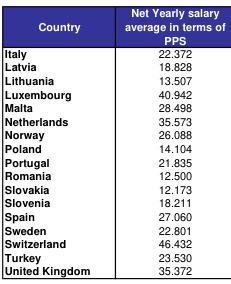table: (3, 4, 224, 277)
table column: (106, 4, 224, 277), (3, 4, 106, 277)
table column header: (3, 4, 224, 46)
table row: (3, 4, 224, 46), (3, 59, 224, 73), (3, 86, 224, 100), (3, 113, 224, 127), (3, 127, 224, 141), (3, 154, 224, 168), (3, 181, 224, 195), (3, 195, 224, 209), (3, 222, 224, 236), (3, 249, 224, 263), (3, 263, 224, 277), (3, 46, 224, 59), (3, 73, 224, 86), (3, 100, 224, 113), (3, 141, 224, 154), (3, 168, 224, 181), (3, 209, 224, 222), (3, 236, 224, 249)
